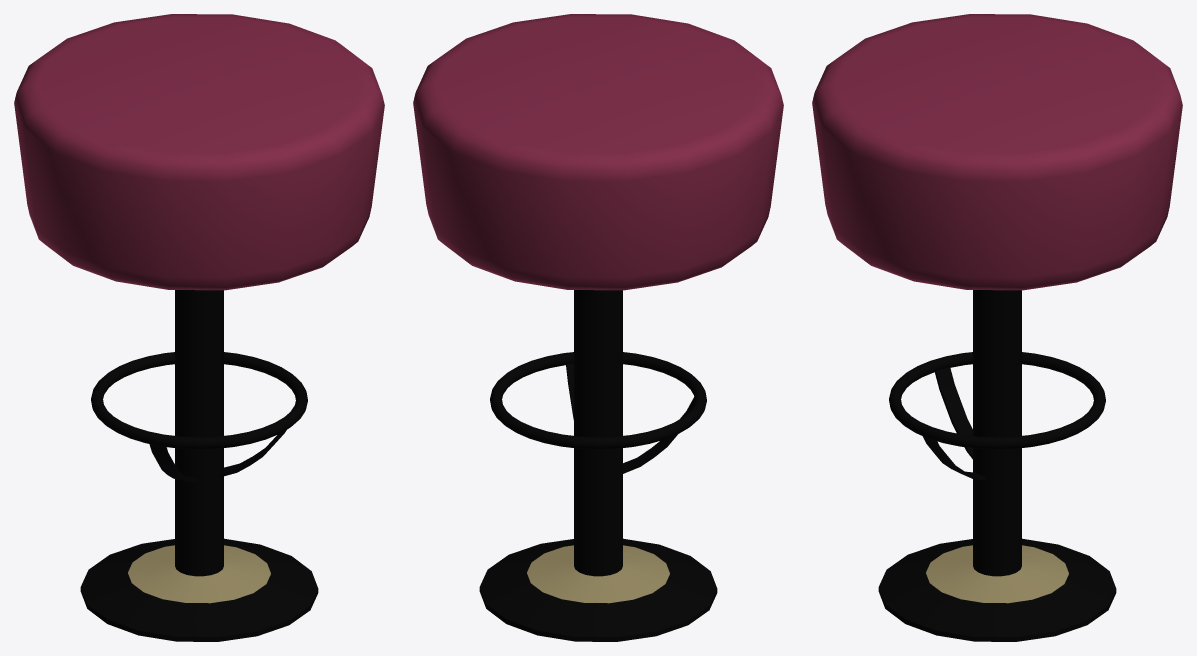
The model's file is casino_stool.FBX.
The picture shows the model from 3 angles, left to right: view 1: azimuth 30°, elevation 25°; view 2: azimuth 150°, elevation 25°; view 3: azimuth 270°, elevation 25°; orthographic projection.
Parts seen in each view (by area): view 1: casino_stool; view 2: casino_stool; view 3: casino_stool.
Part boxes in pixels (x1,y1,x2,y2): casino_stool: [14, 14, 384, 641]; casino_stool: [413, 14, 783, 641]; casino_stool: [812, 14, 1182, 641].
Bounding box in the file's own units: 63.04 × 96.39 × 63.83.
1 material, 1 textured.
